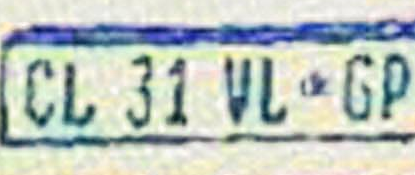1: (162, 53, 194, 130)
3: (123, 53, 158, 129)
C: (23, 56, 58, 127)
G: (342, 52, 377, 123)
L: (255, 53, 288, 128), (61, 59, 96, 126)
P: (378, 51, 411, 122)
V: (218, 54, 256, 127)
